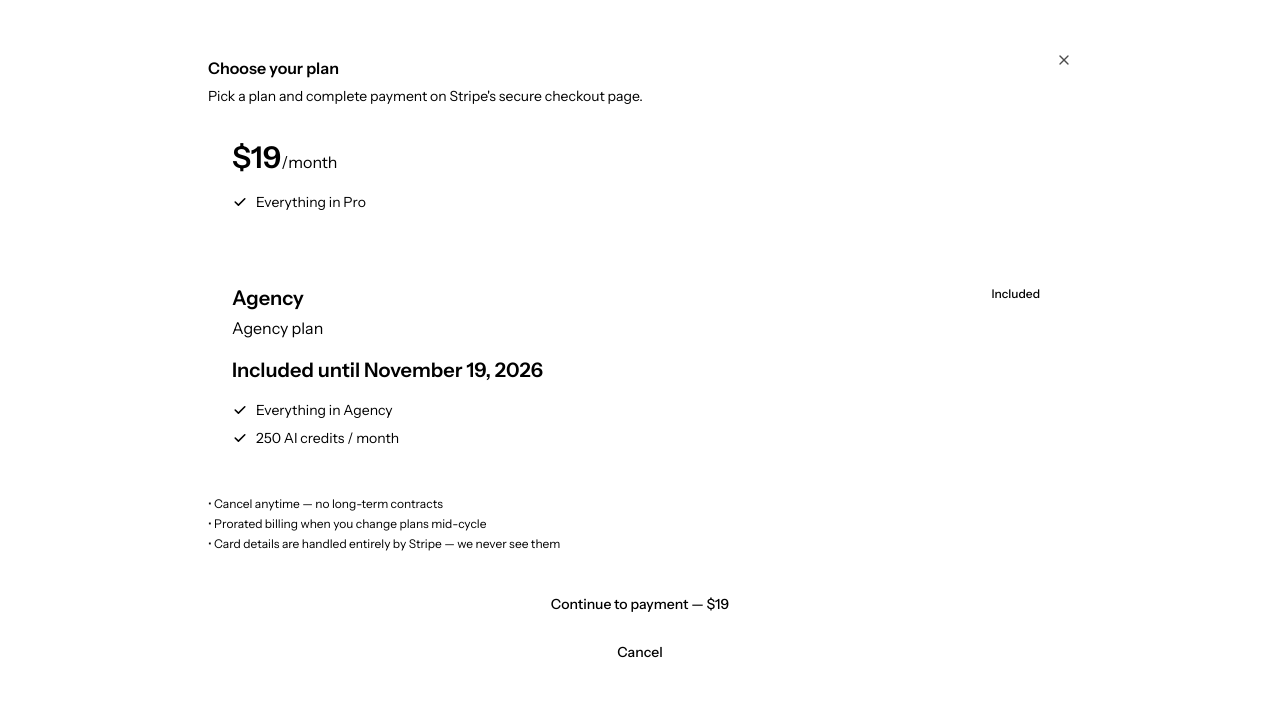
Test case: UpgradeDialog, the plan in force held through a dated grant › cannot be bought, and its submit says until when
(page scrolled)
Click the radio button labelled "Agency".
click(640, 366)  # box [208,260,1072,472]
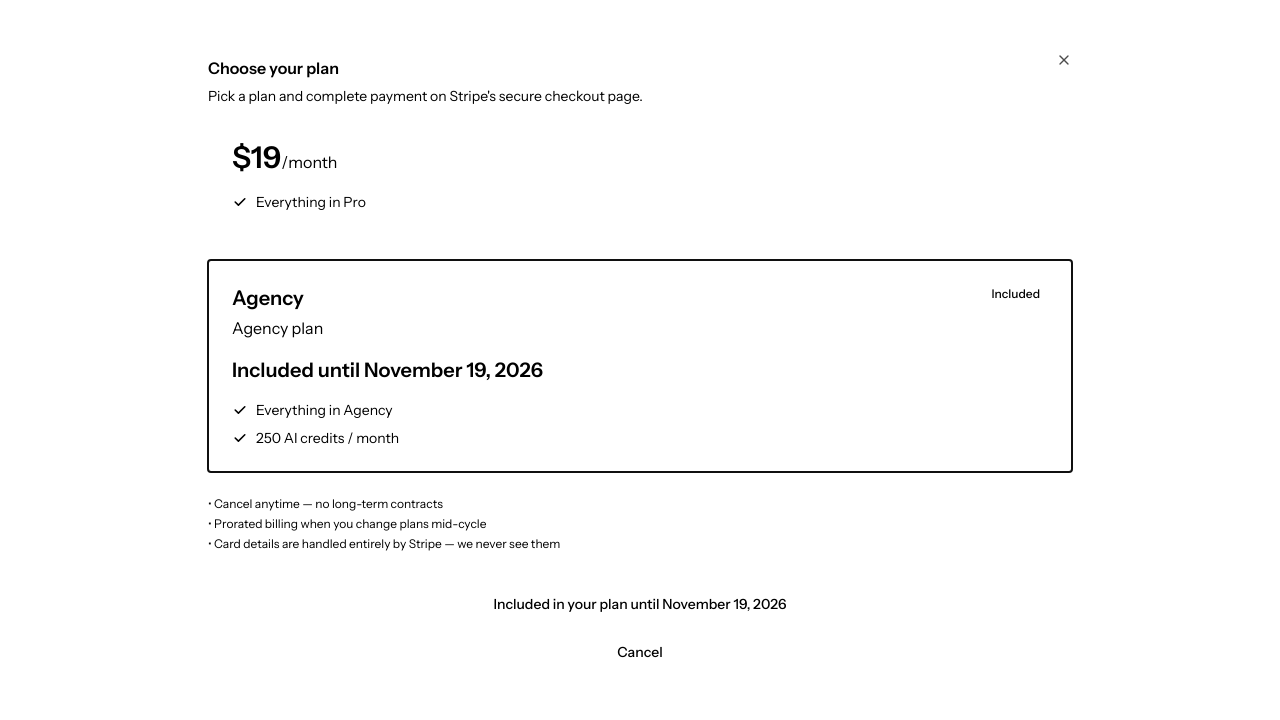
Expected: the button "Included in your plan until November 19, 2026" is disabled, [208,584,1072,624]
